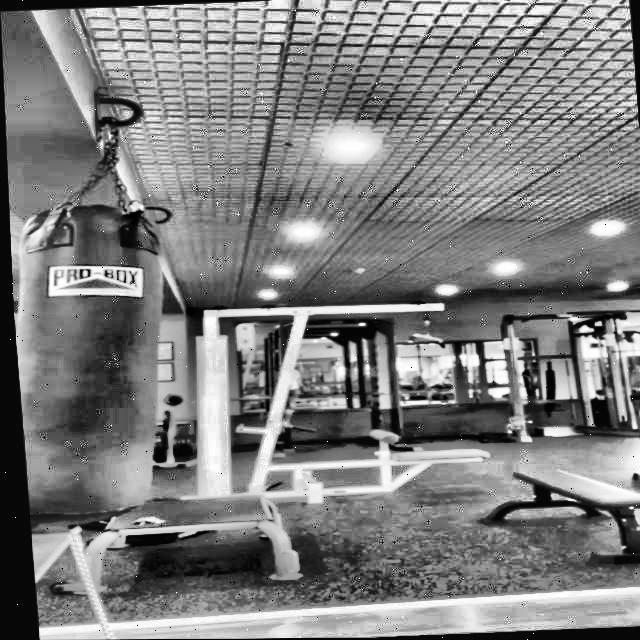boxing-bag: (3, 89, 172, 531)
